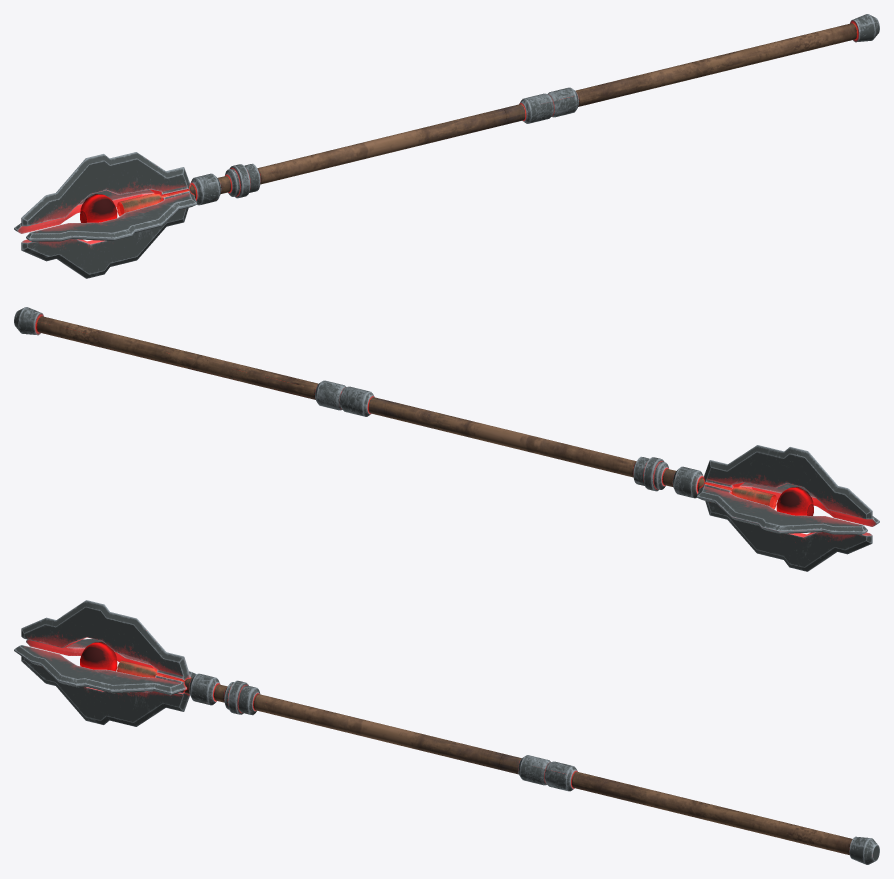
The model's file is magicienWand.glb.
The picture shows the model from 3 angles, top to bottom: view 1: azimuth 30°, elevation 25°; view 2: azimuth 150°, elevation 25°; view 3: azimuth 330°, elevation 25°; orthographic projection.
Parts seen in each view (by area): view 1: MagSt1; view 2: MagSt1; view 3: MagSt1.
Boxes of the visible parts, x1,y1,x2,y2 form: MagSt1: [14, 14, 879, 278]; MagSt1: [14, 307, 879, 571]; MagSt1: [14, 600, 879, 864].
Size of the model in its own units: 1.64 by 0.2209 by 0.1875.
Materials: 1 (1 with a texture image).
